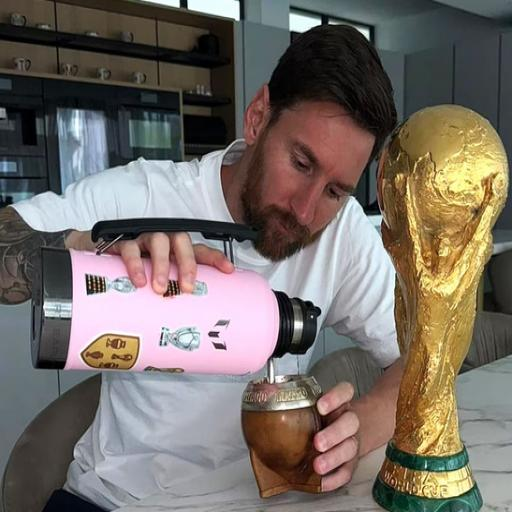mate: (241, 375, 324, 498)
termo: (30, 247, 321, 376)
